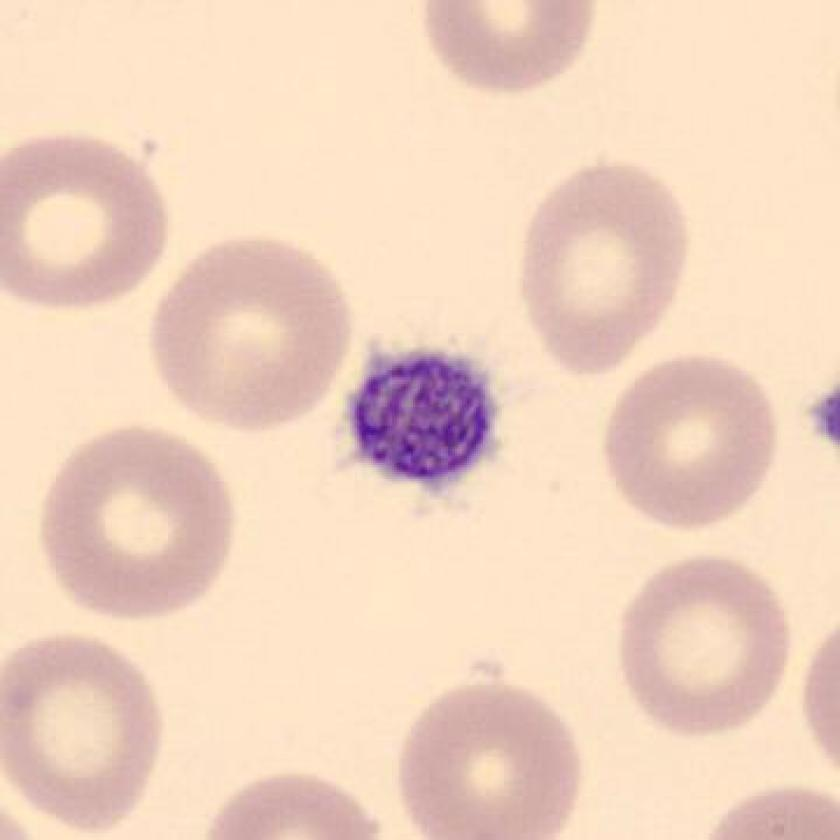platelets: (333, 332, 515, 498)
